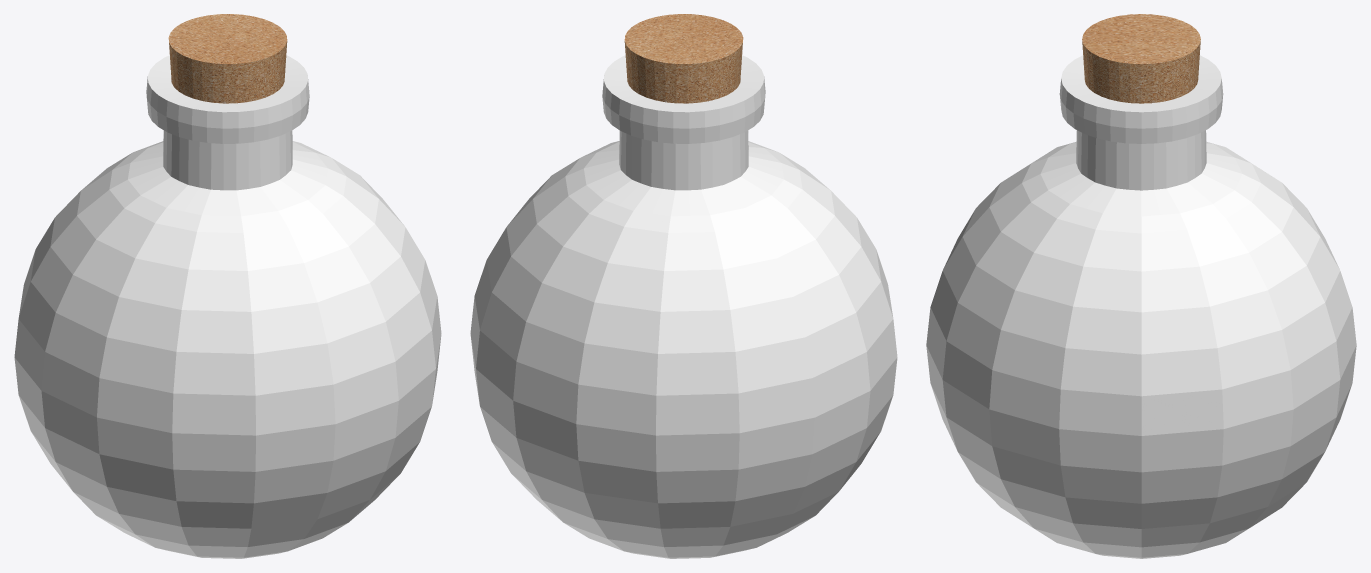
The model's file is potion_01_v2.glb.
The picture shows the model from 3 angles, left to right: view 1: azimuth 30°, elevation 25°; view 2: azimuth 150°, elevation 25°; view 3: azimuth 270°, elevation 25°; orthographic projection.
Visible parts, largest first — view 1: Bottle, Cork; view 2: Bottle, Cork; view 3: Bottle, Cork.
Boxes of the visible parts, x1,y1,x2,y2 form: Bottle: (14,55,441,558); Cork: (168,14,287,103); Bottle: (470,55,897,558); Cork: (624,14,743,103); Bottle: (926,55,1356,558); Cork: (1082,14,1200,103).
Bounding box in the file's own units: 2 × 2.49 × 2.
2 materials, 2 textured.
